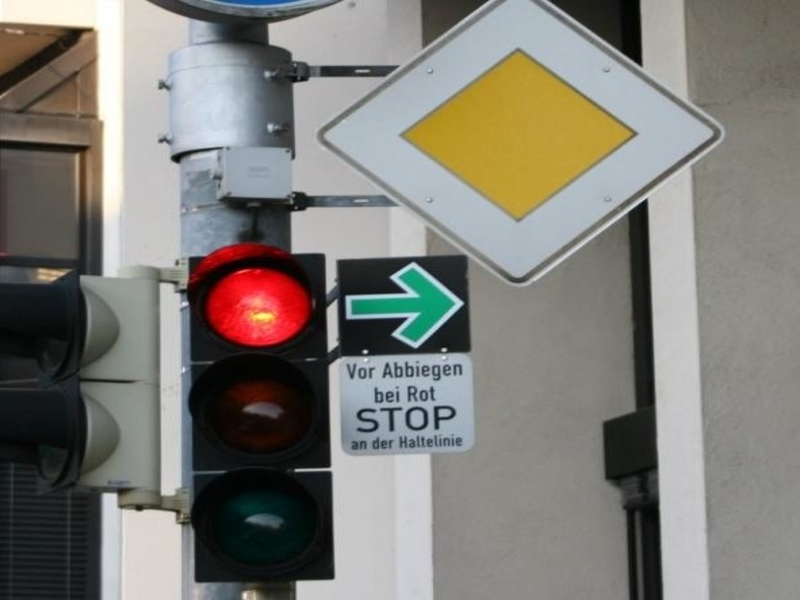traffic_light: (187, 245, 336, 582), (187, 245, 336, 582), (0, 265, 159, 493), (0, 265, 159, 493)
